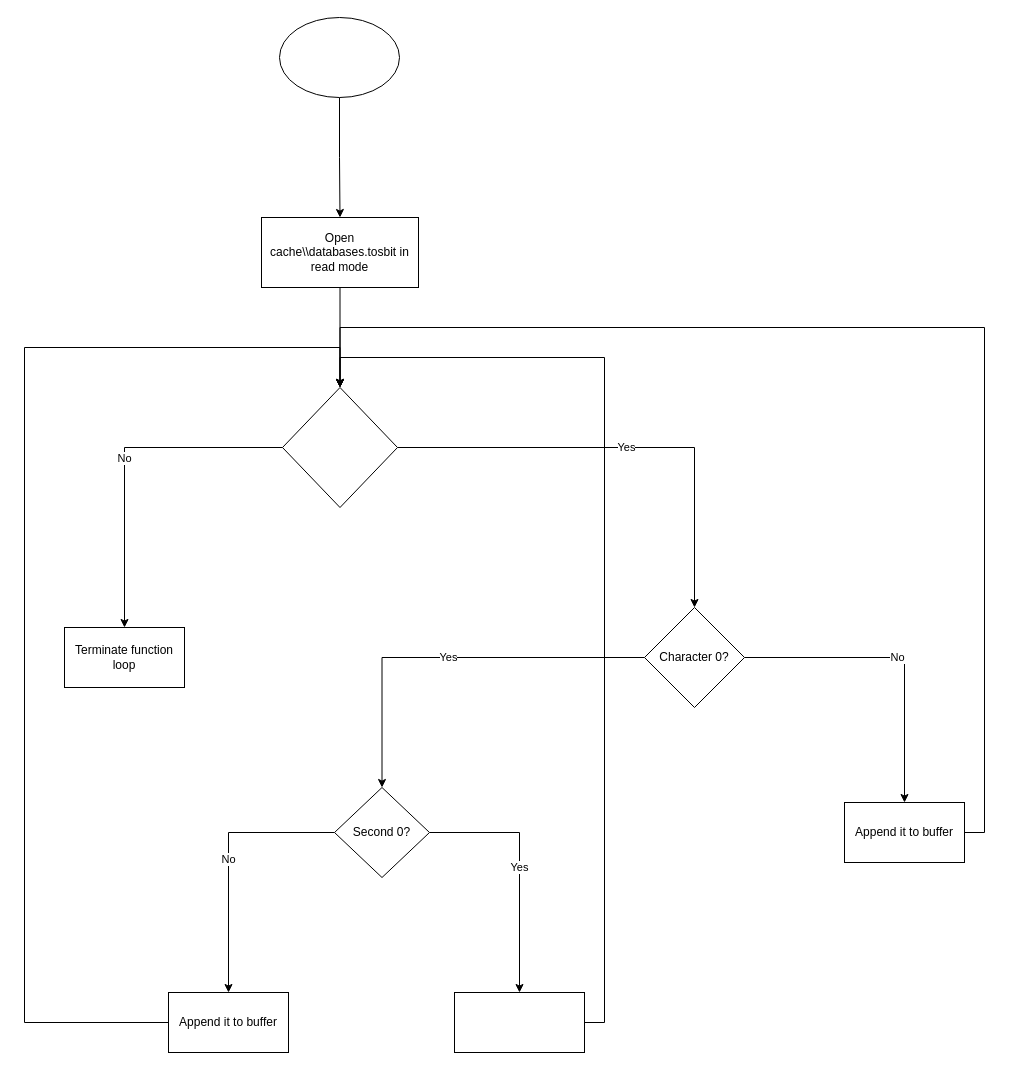
The diagram is 1010 pixels wide and 1070 high, and some of its shapes have lost their labels. Here are the shapes that lost their labels. From the top down, the centre of each, then its label:
At (339,57): "Start".
At (340,447): "EOF reached?".
At (519,1022): "Append decrypted code to dec_buffer".
